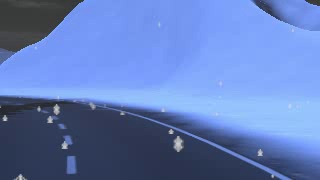Lane: (0, 95, 288, 179)
